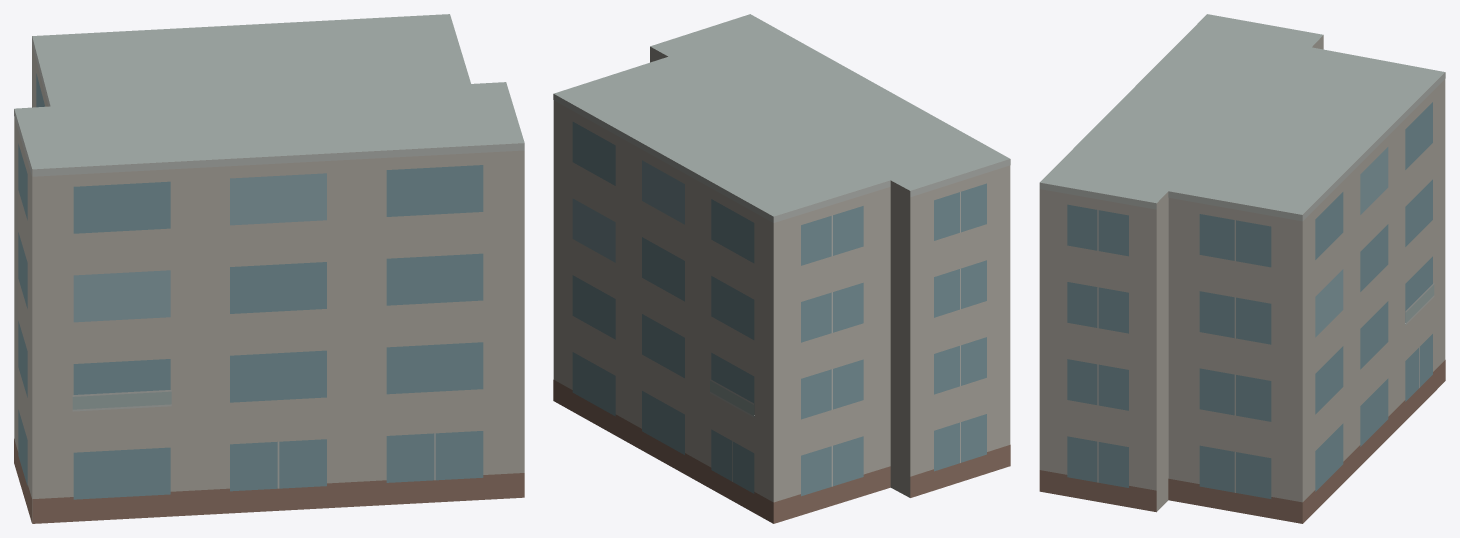
The model's file is survey-upis-32531944.glb.
The picture shows the model from 3 angles, left to right: view 1: azimuth 30°, elevation 25°; view 2: azimuth 150°, elevation 25°; view 3: azimuth 270°, elevation 25°; orthographic projection. The views are drawn at different scales.
Parts seen in each view (by area): view 1: survey-upis-32531944.tmp; view 2: survey-upis-32531944.tmp; view 3: survey-upis-32531944.tmp.
Boxes of the visible parts, x1,y1,x2,y2 form: survey-upis-32531944.tmp: (14,14,524,523); survey-upis-32531944.tmp: (553,14,1010,523); survey-upis-32531944.tmp: (1039,14,1445,523).
Bounding box in the file's own units: 16.33 × 11.7 × 13.94.
